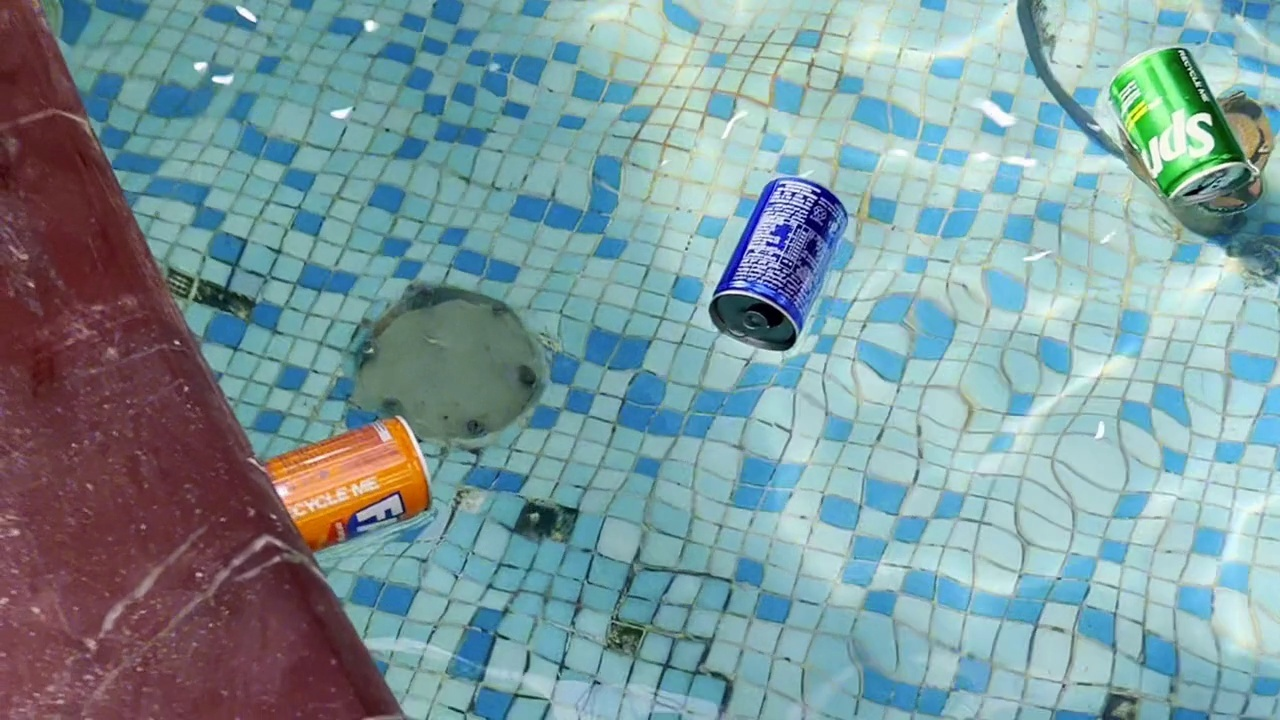debris: (689, 157, 855, 355), (239, 407, 447, 552), (1101, 44, 1252, 211)
